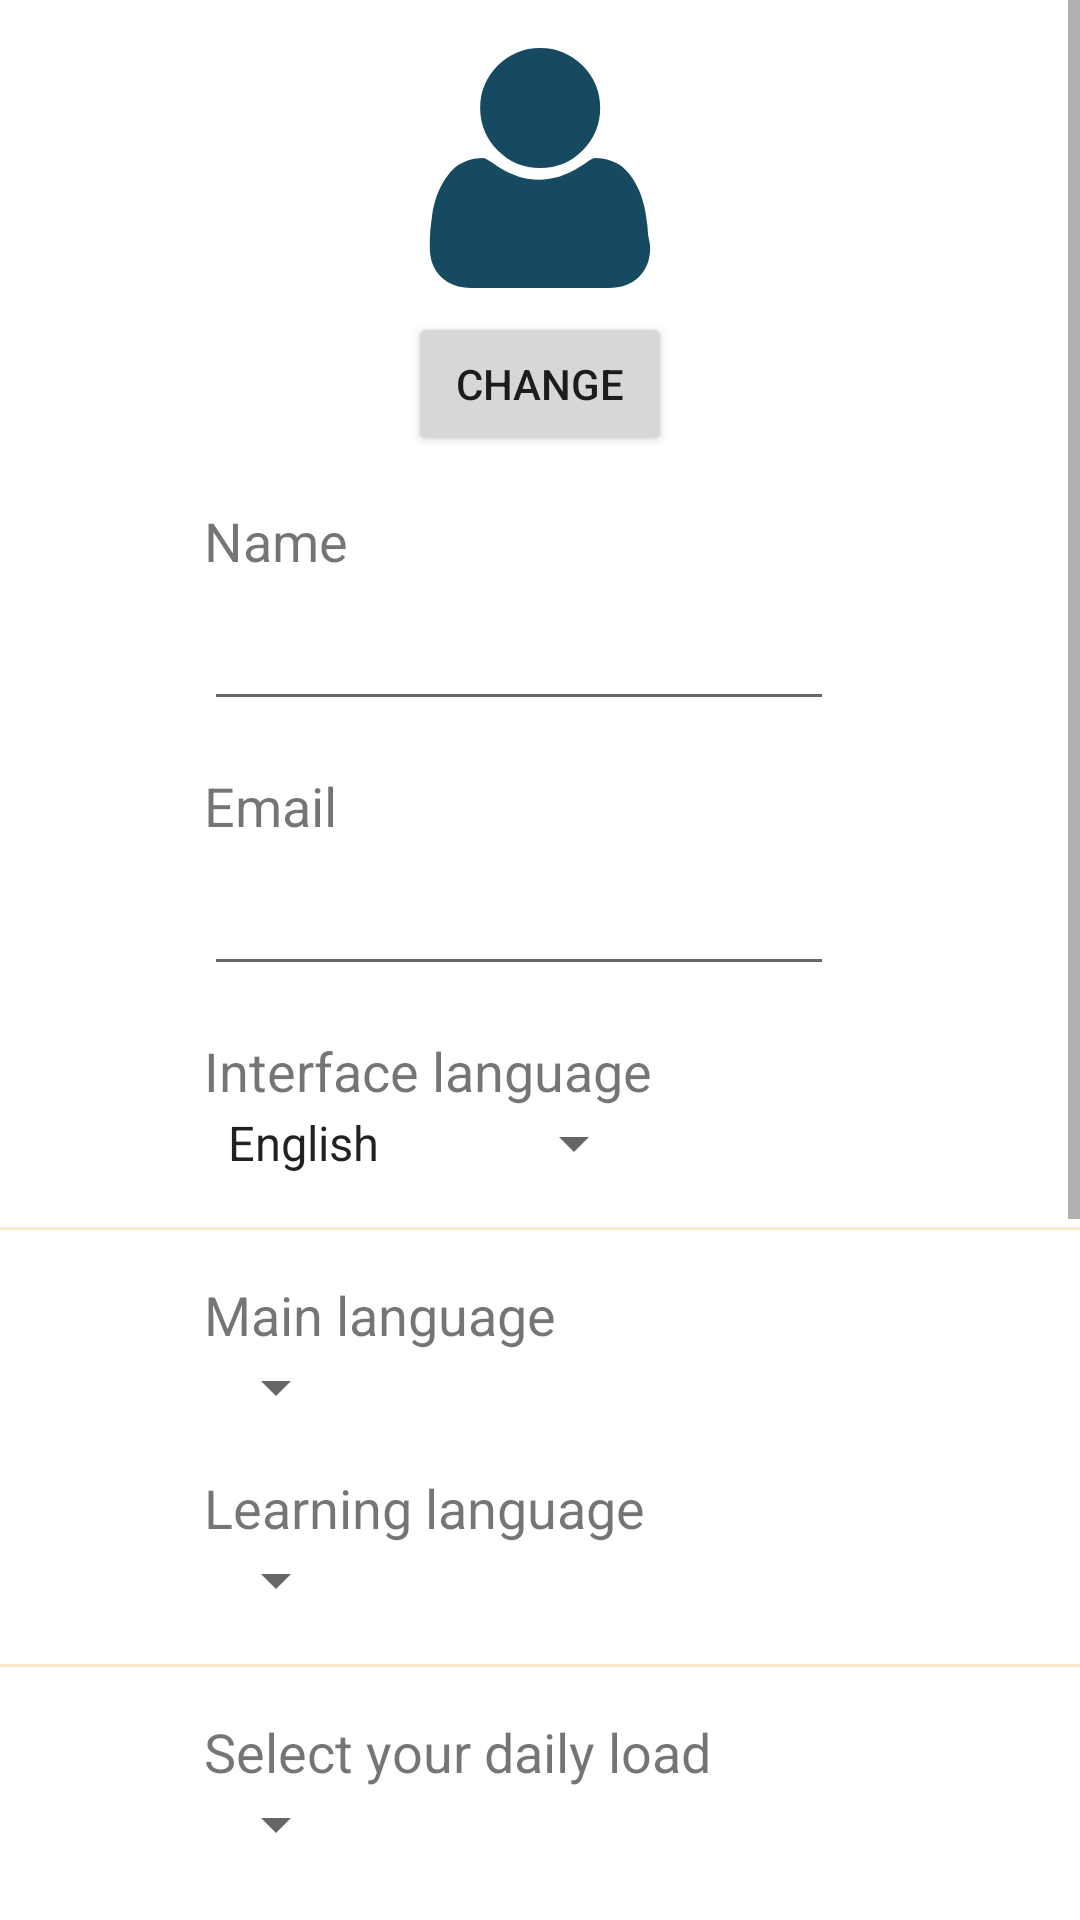

Where icons sit on this 1080×1920 app screen, as (x1, y1, x2, y2):
user: (429, 48, 651, 288)
